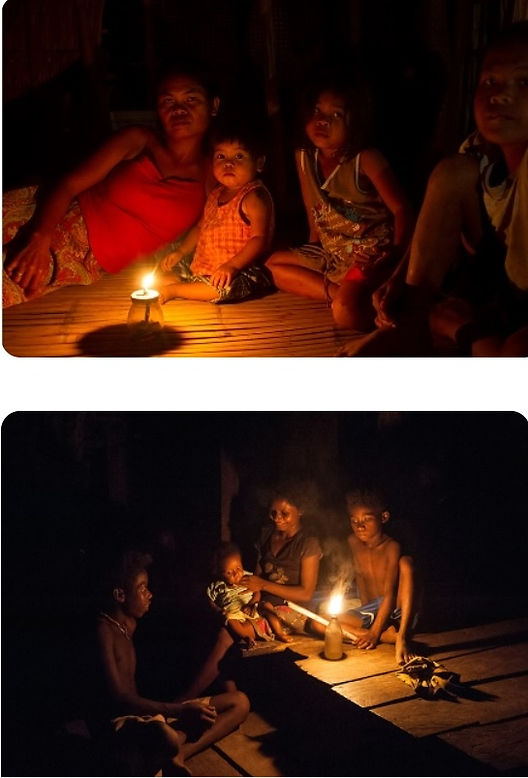Open-Flame-Hazard: (122, 264, 179, 340), (315, 579, 361, 661)
